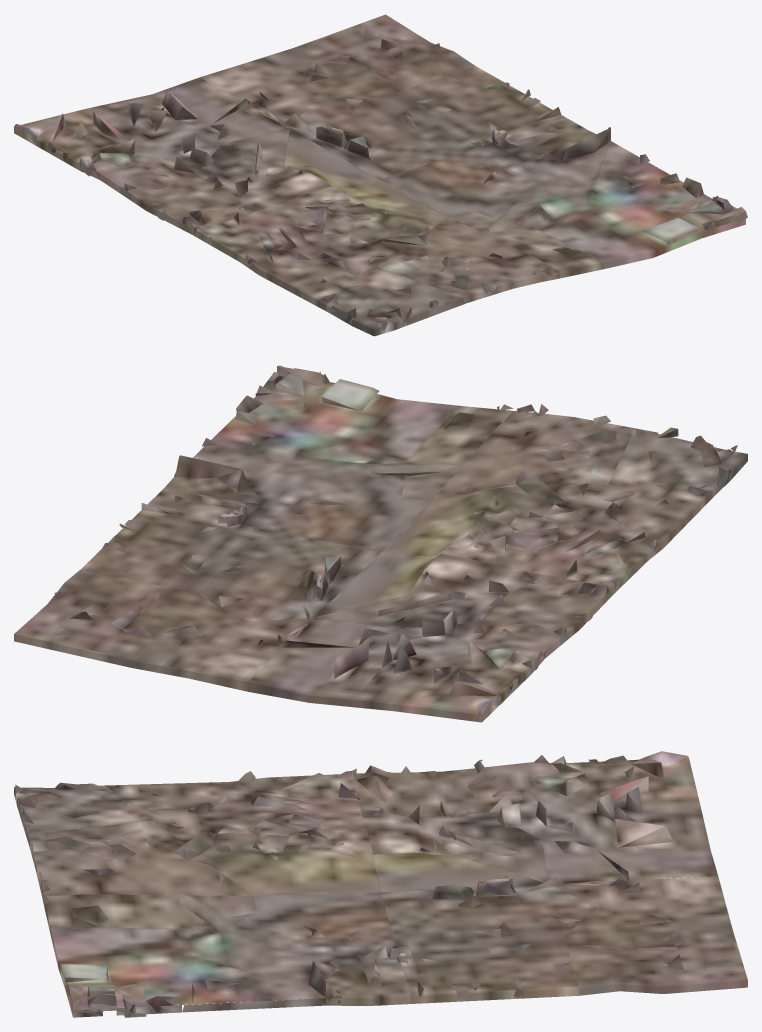
3 renders of one model, top to bottom at view 1: azimuth 30°, elevation 25°; view 2: azimuth 150°, elevation 25°; view 3: azimuth 270°, elevation 25°, orthographic. The views are drawn at different scales.
Visible parts, largest first — view 1: Mesh_0; view 2: Mesh_0; view 3: Mesh_0.
Boxes of the visible parts, x1,y1,x2,y2 form: Mesh_0: (14, 14, 747, 336); Mesh_0: (14, 365, 747, 722); Mesh_0: (14, 751, 747, 1017).
Size of the model in its own units: 1070 by 79.35 by 1318.
1 material, 1 textured.
